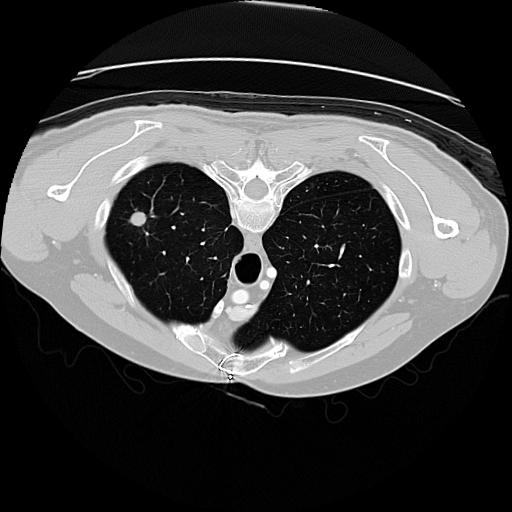nodule: (126, 209, 149, 232)
